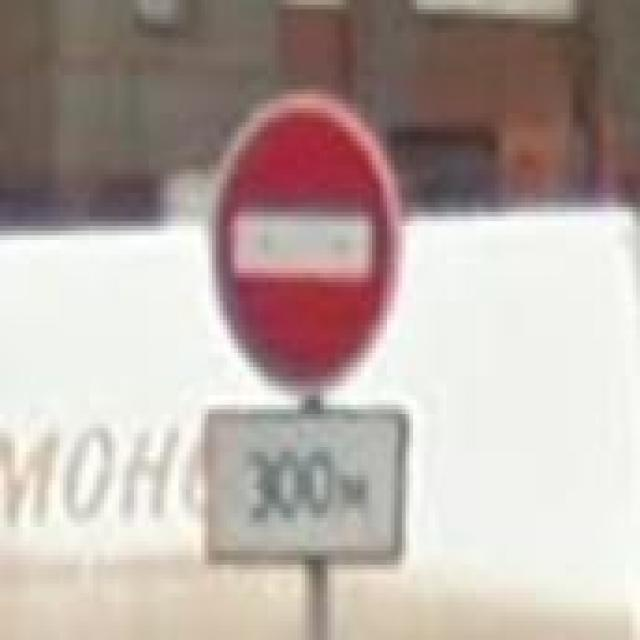do_not_enter: (208, 89, 402, 400)
